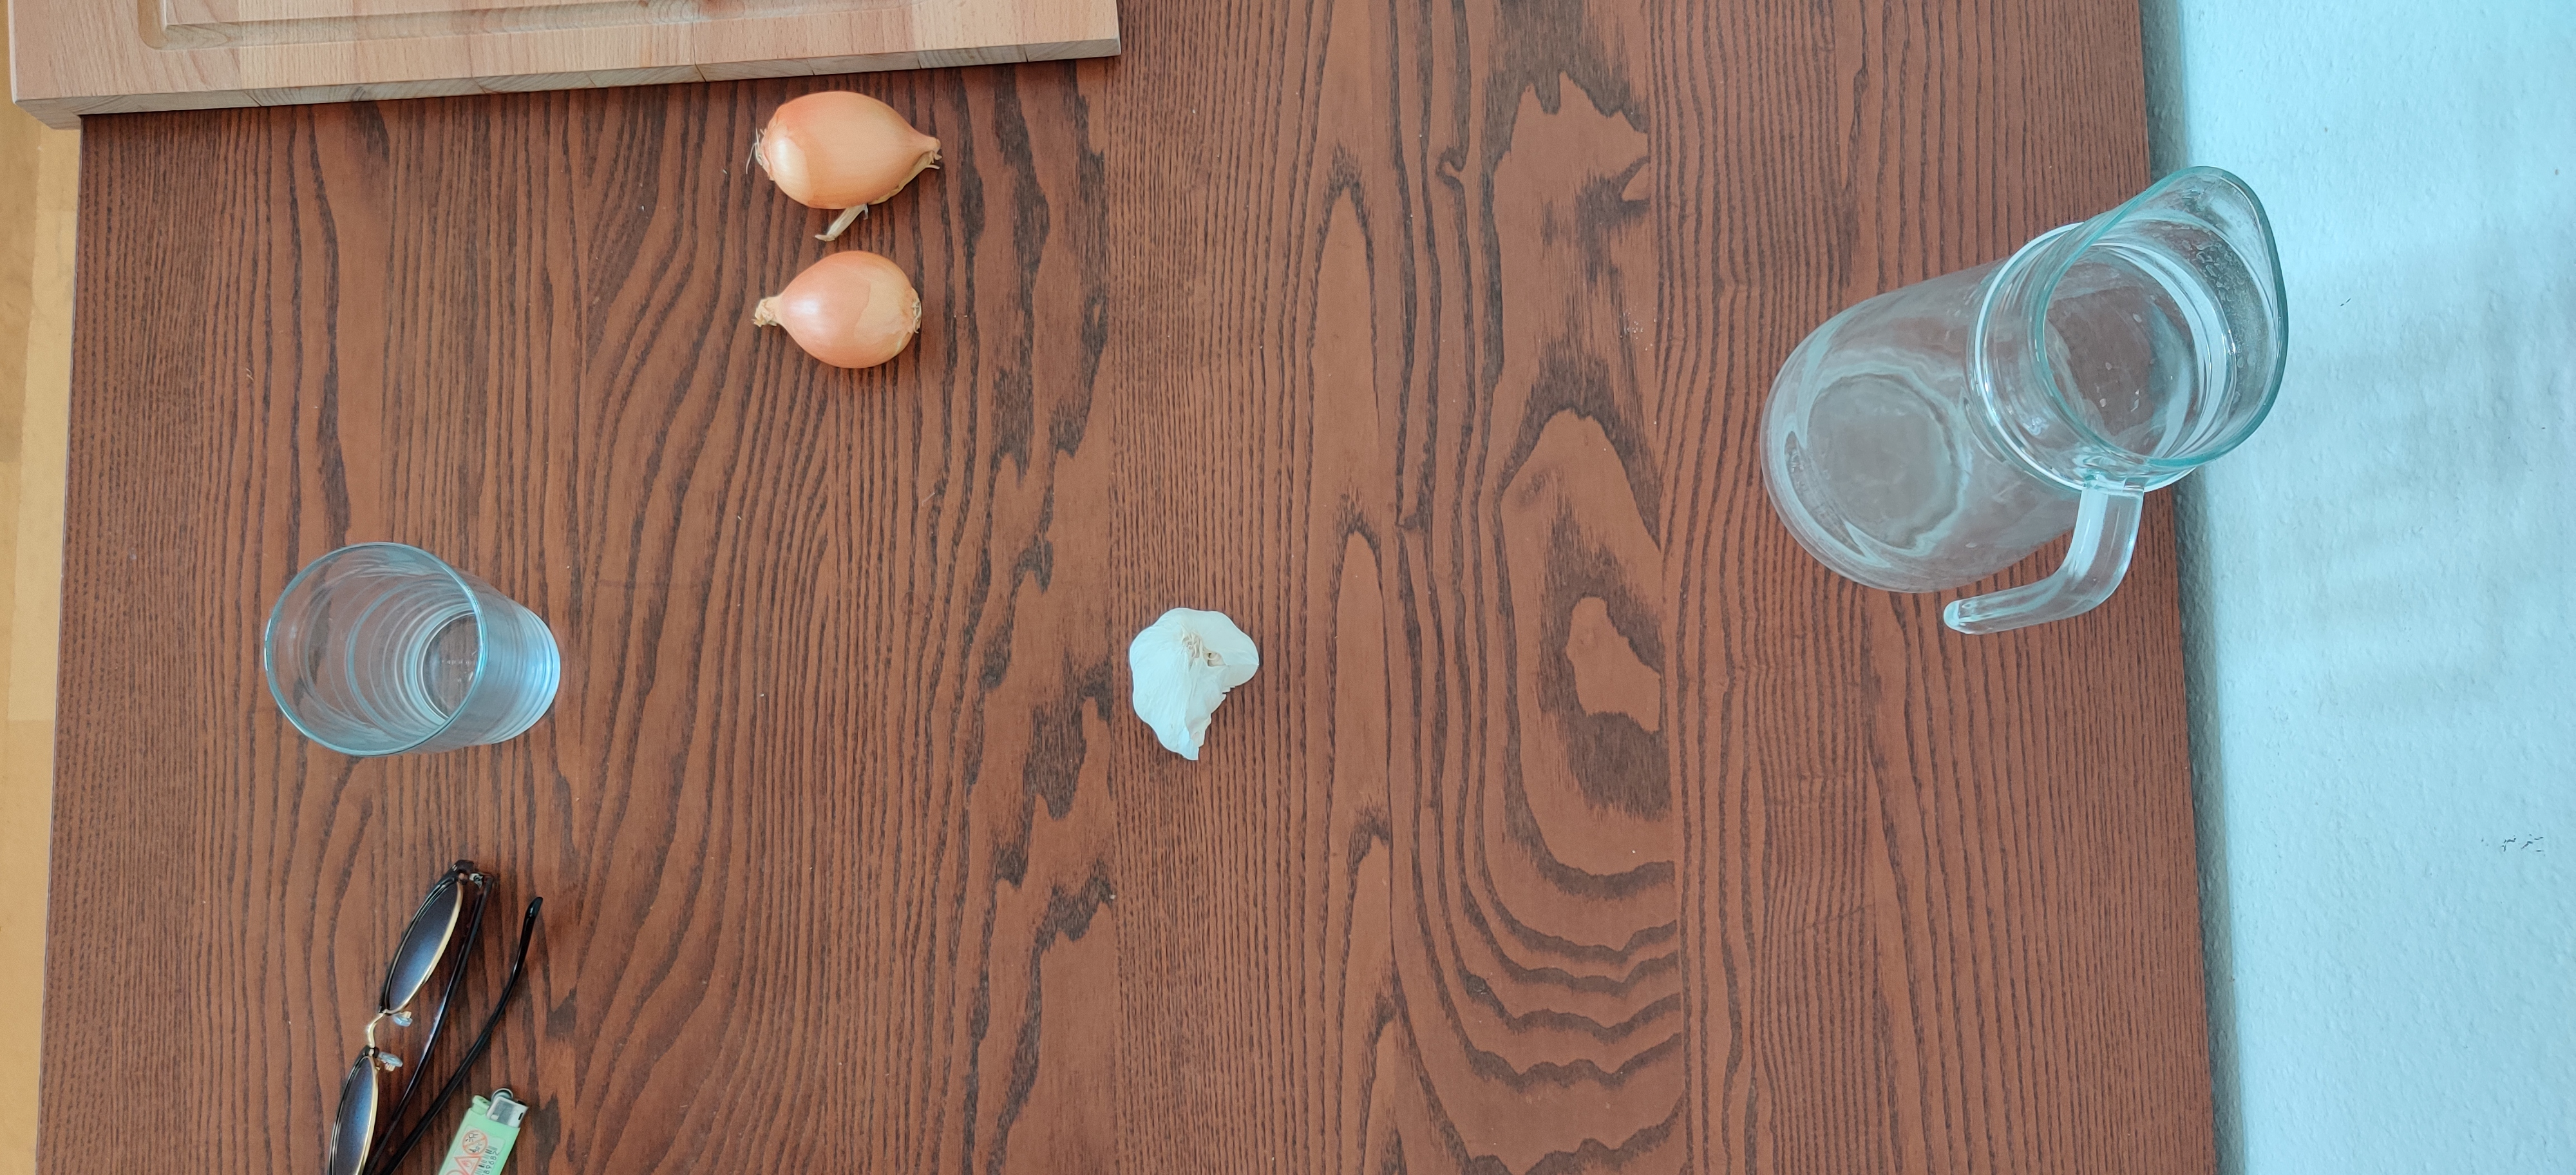Knoblauch: (1129, 603, 1260, 761)
